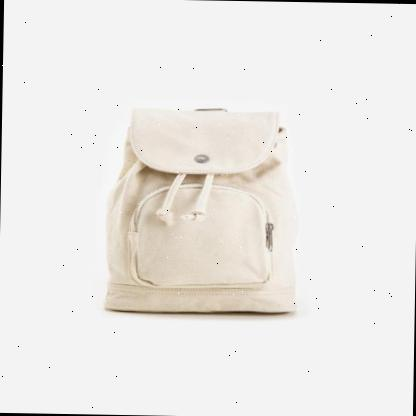bag: (93, 98, 307, 324)
